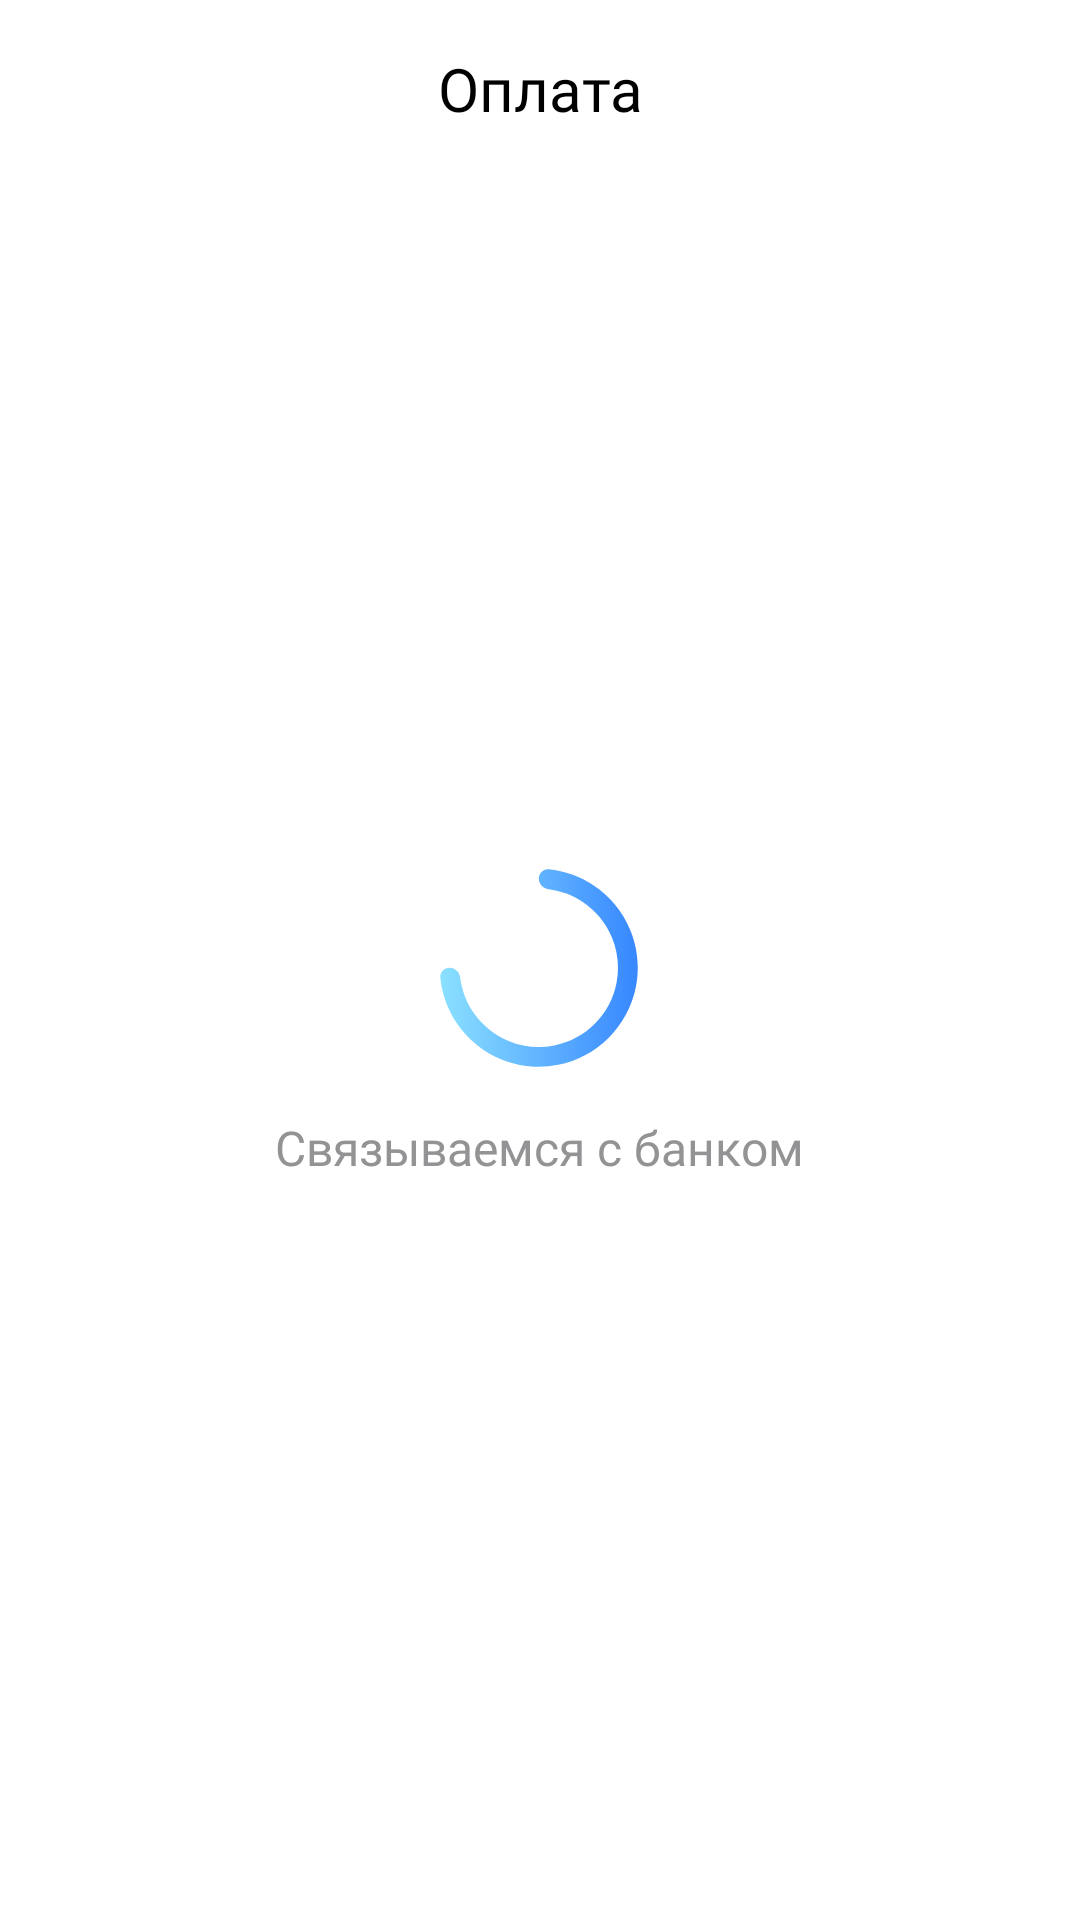

Point at icon controls on the screen. Image size 1080px×1920px, points as (x,y).
load payment: (539,968)
